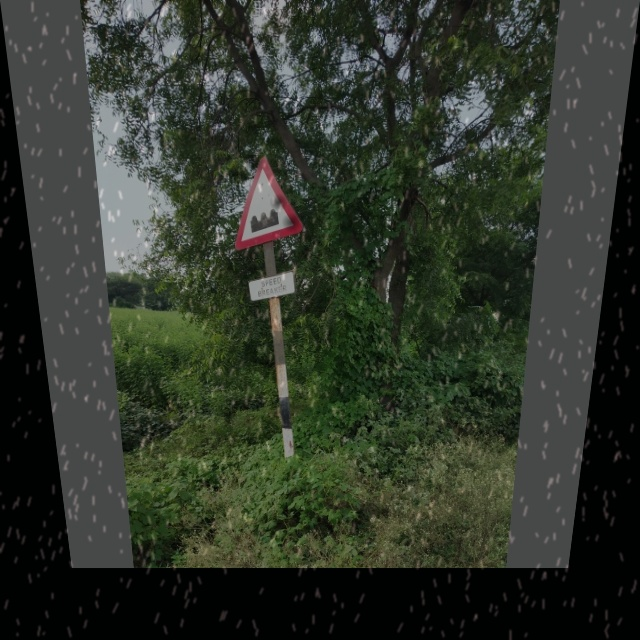Hump_or_Rough_Road: (229, 155, 306, 247)
